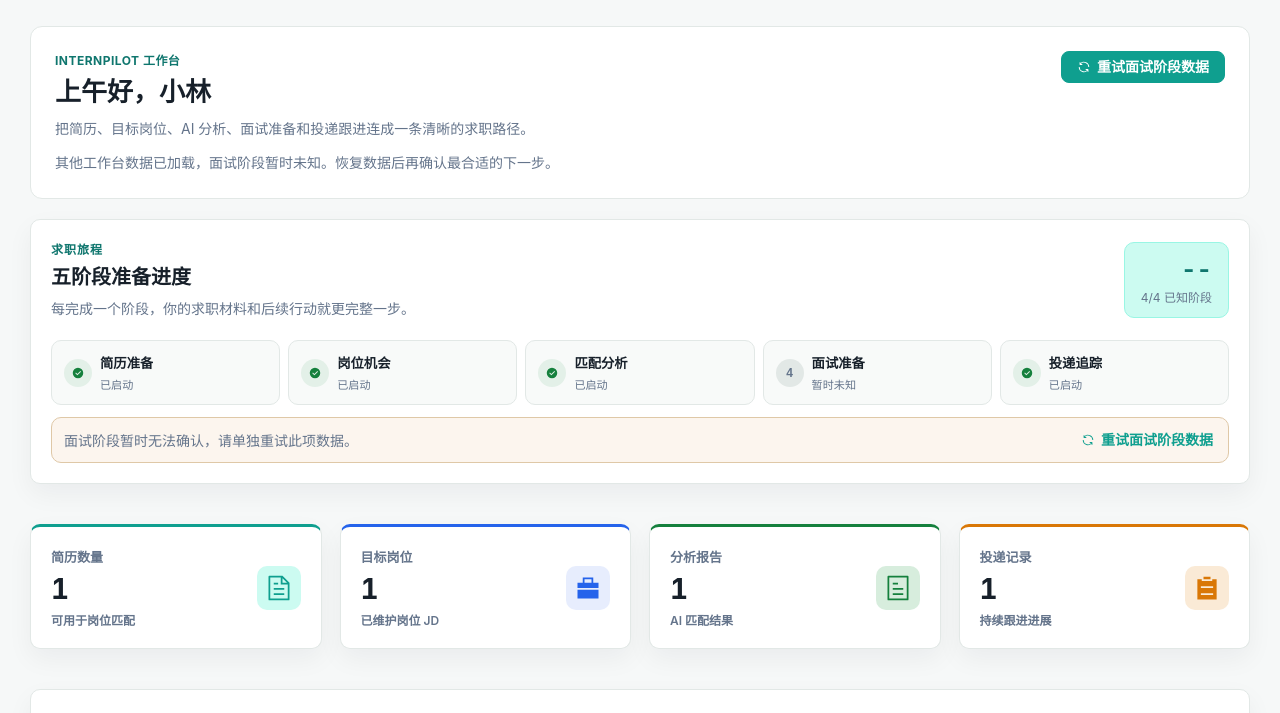
Test: career action workspace › retries only the failed interview count and restores journey guidance after recovery
What coordinates should you click on to do the following:
click the button "重试面试阶段数据" in the row of "面试阶段暂时无法确认，请单独重试此项数据。"
I would click on:
 (1147, 440)
Its box is [1078,430,1216,450].
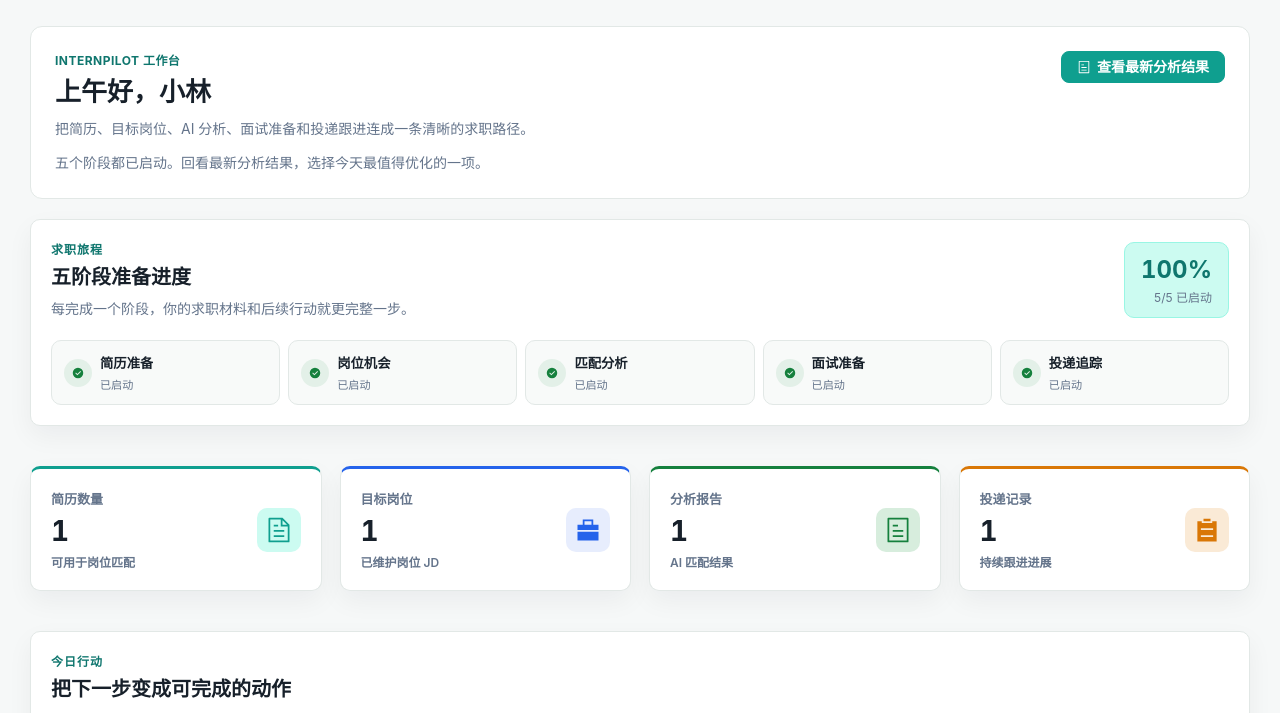
expect the number of list items with class "journey-step--complete" is 5: met, box [51,340,280,405]; [288,340,517,405]; [525,340,755,405]; [763,340,992,405]; [1000,340,1229,405]
expect the button "查看最新分析结果" is shown: met, box [1061,51,1225,83]
